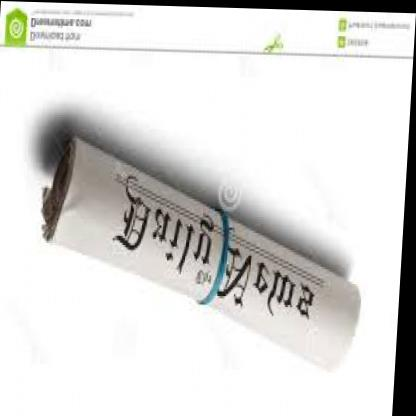Paper: (24, 81, 402, 386)
